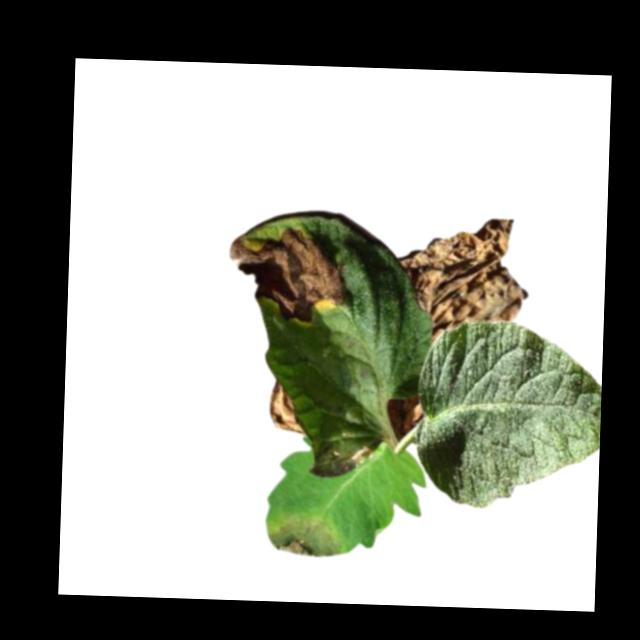Late_blight: (394, 214, 530, 346), (225, 223, 350, 327), (268, 511, 344, 562), (310, 438, 374, 479), (268, 379, 304, 434), (386, 392, 426, 438)
healthy: (414, 317, 603, 512)
